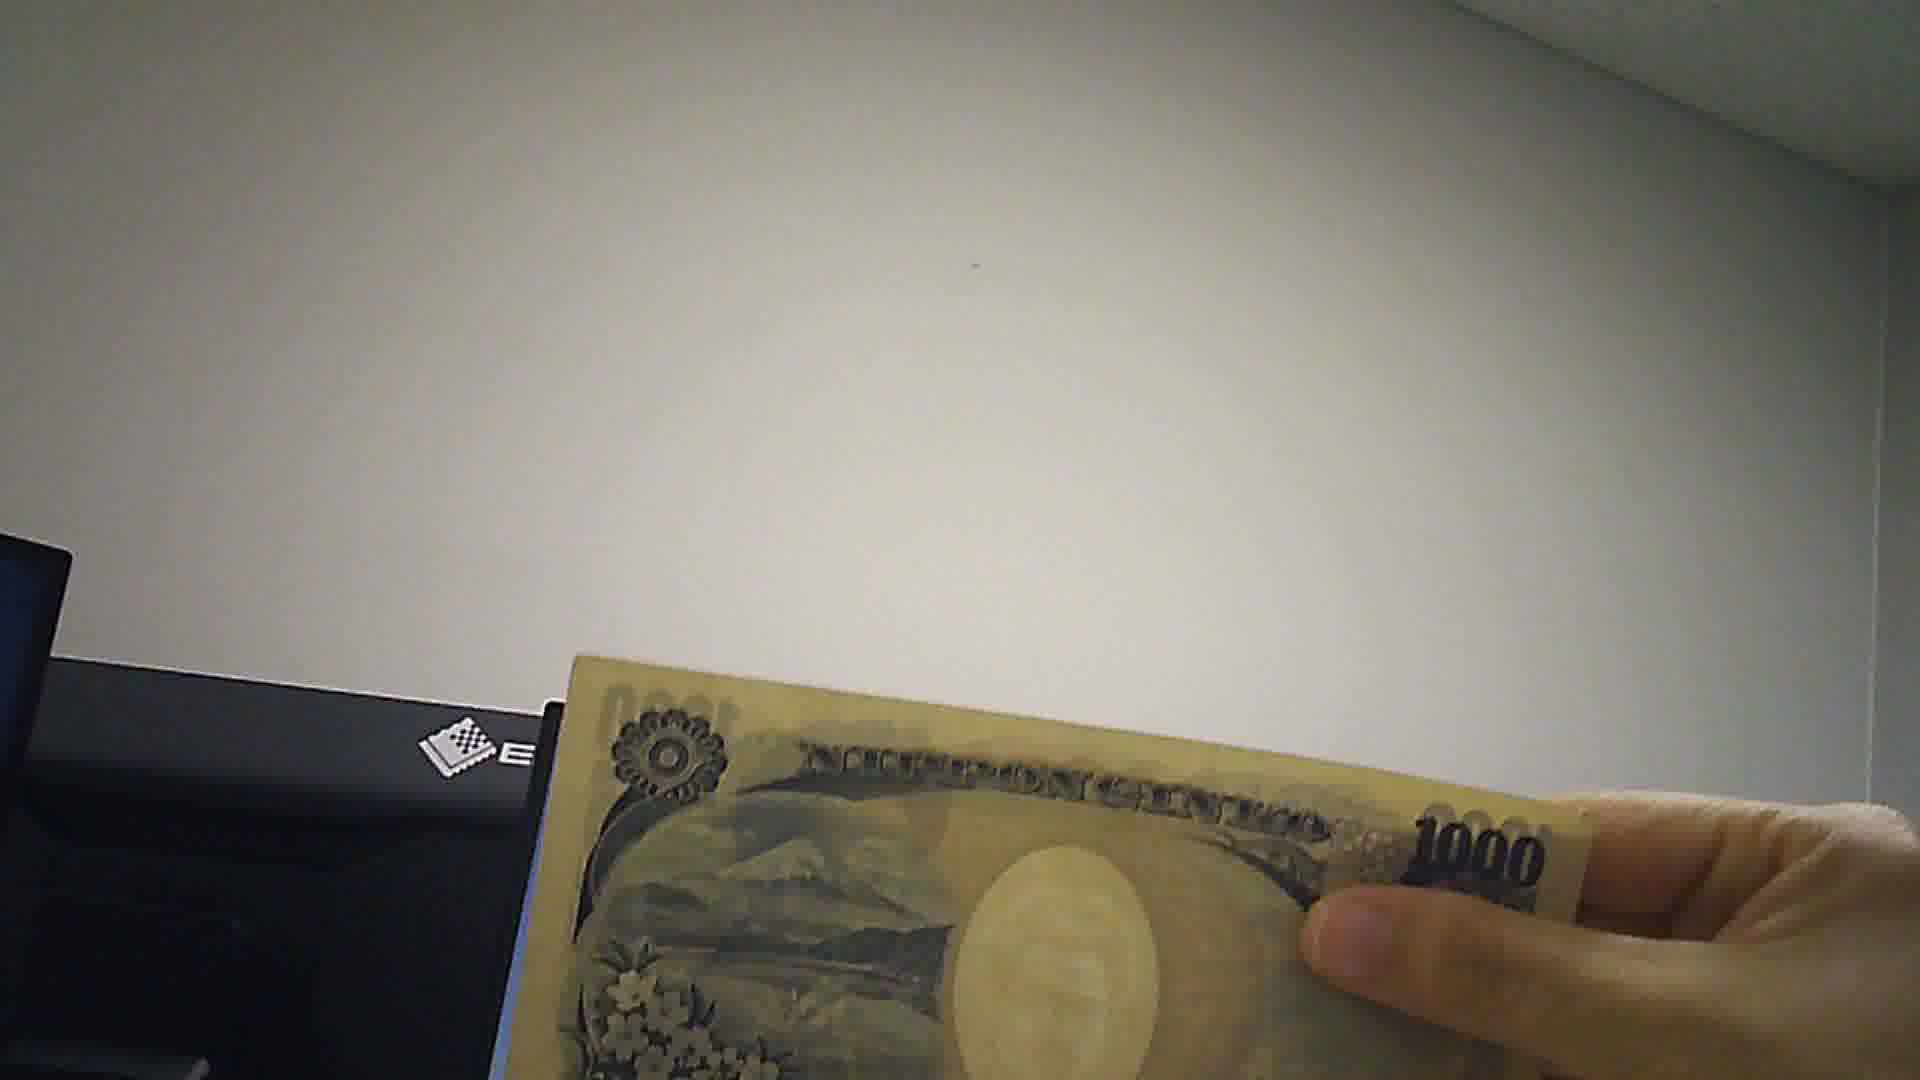1,000 Yen: (498, 640, 1592, 1073)
